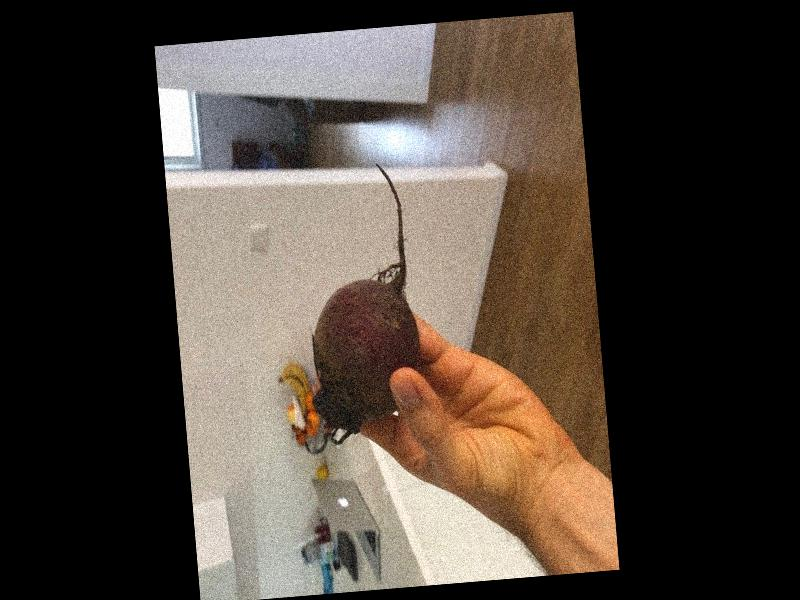Beet: (294, 160, 426, 445)
